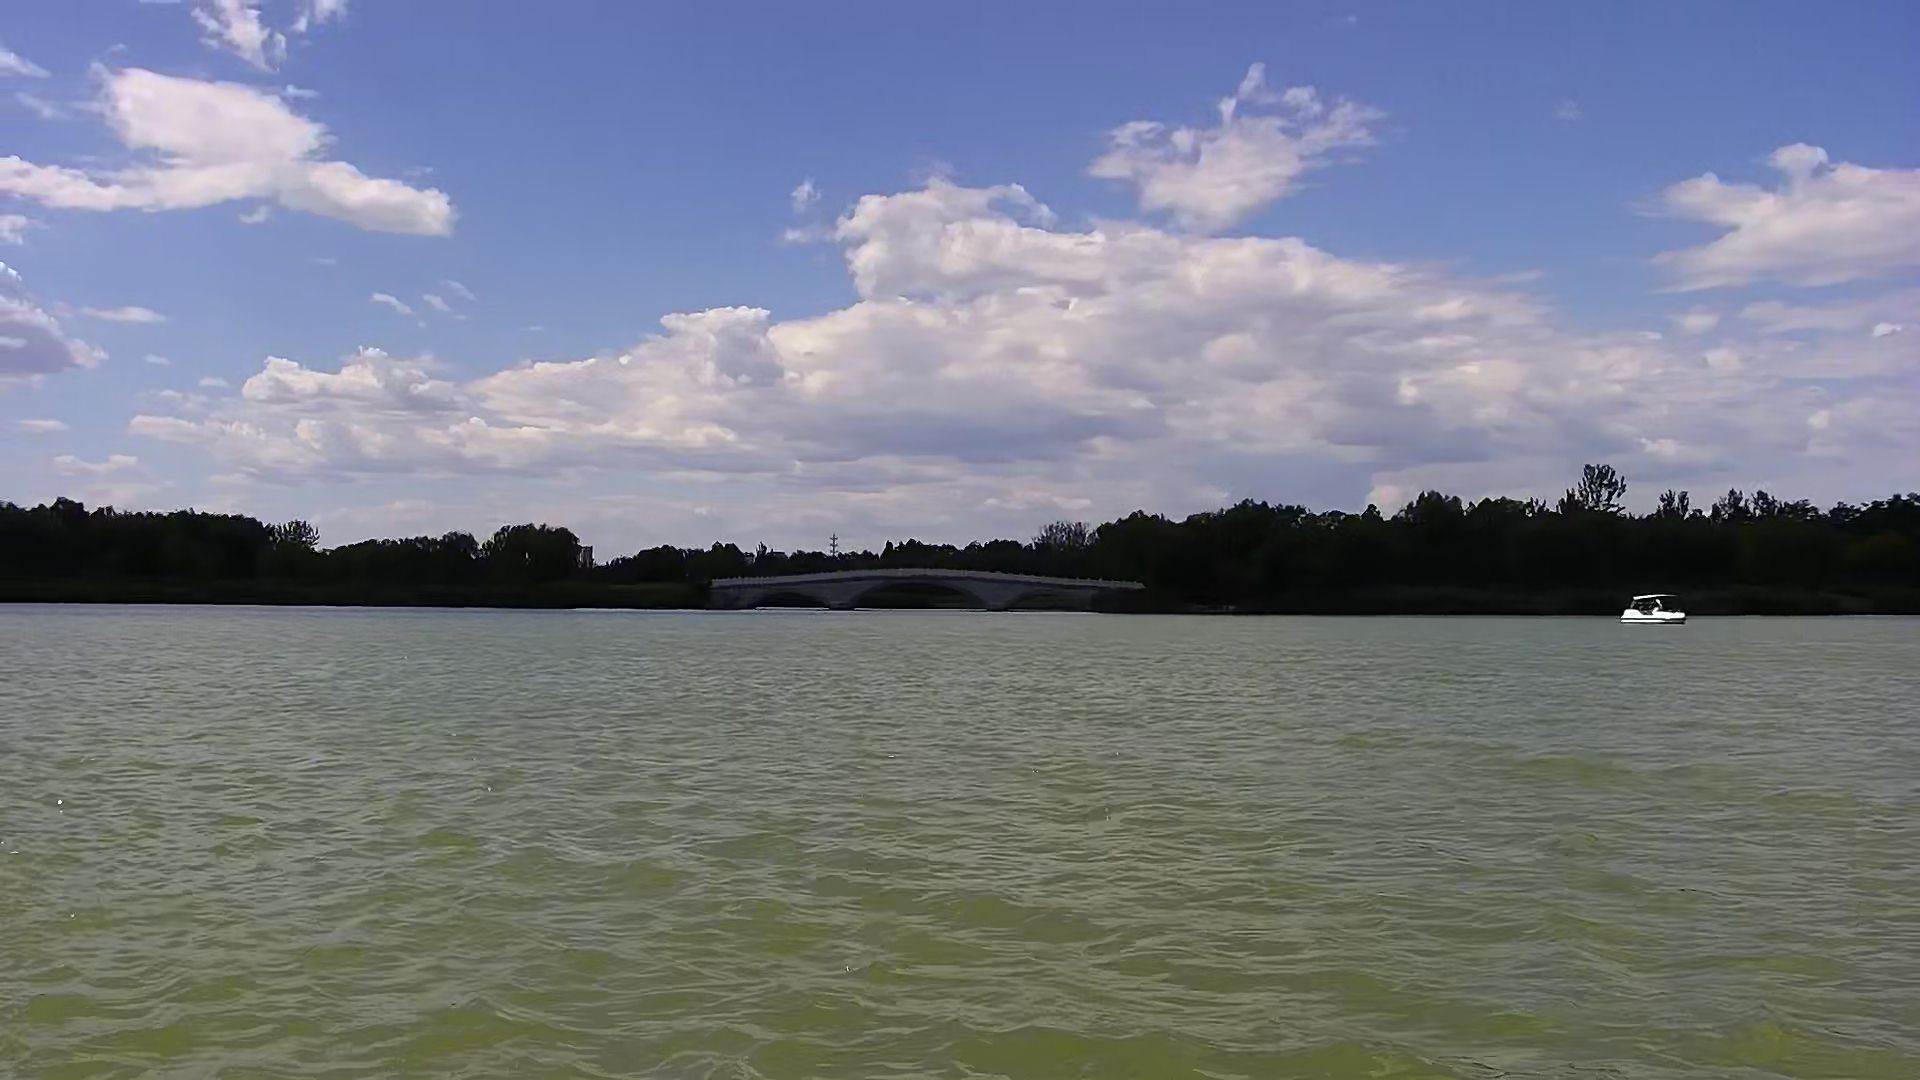boat: (1619, 589, 1695, 626)
bridge: (712, 563, 1129, 617)
